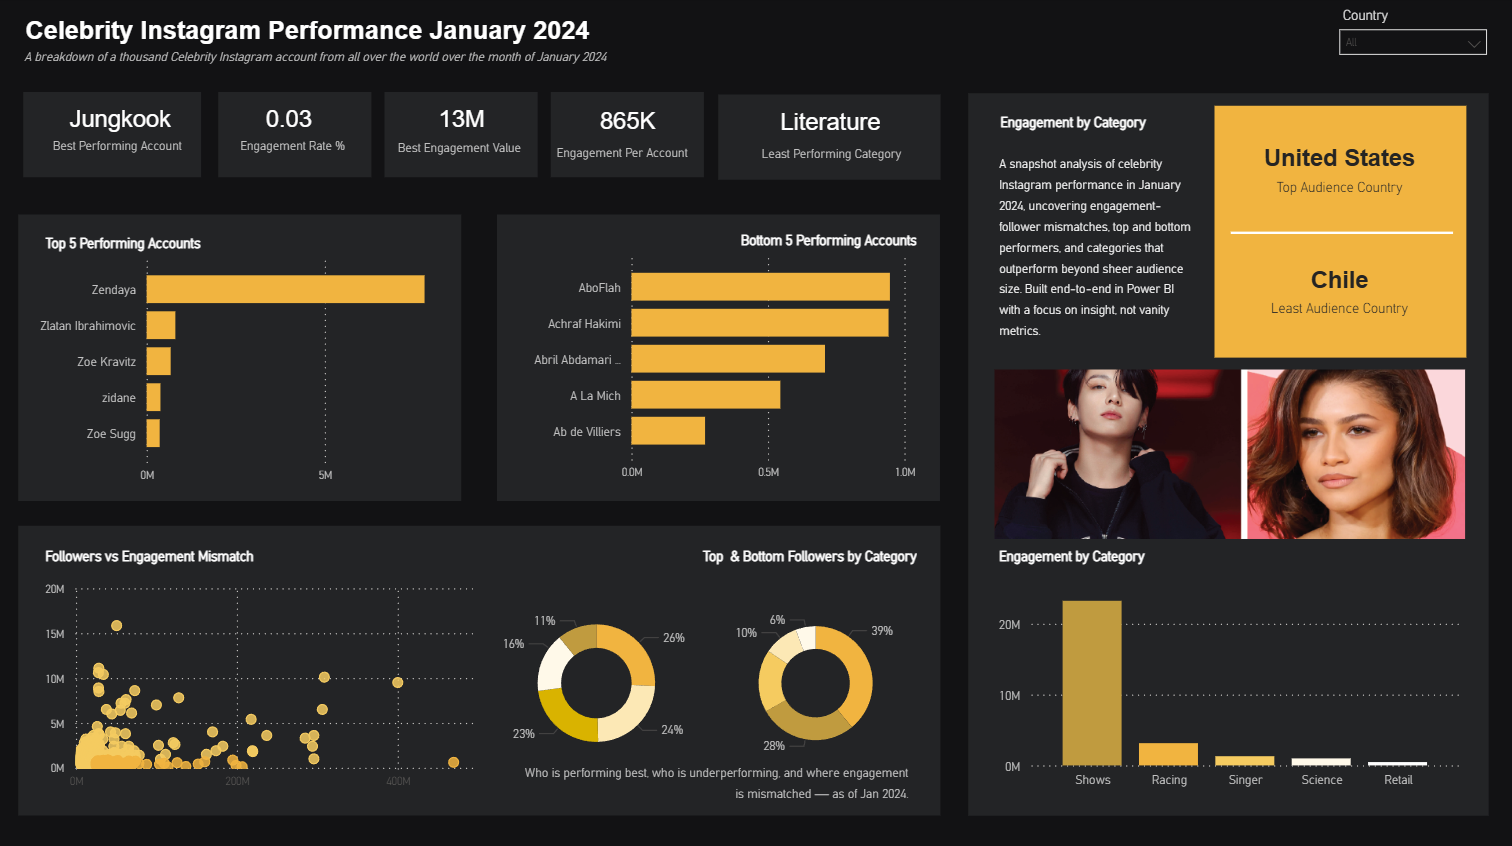

What the dashboard file says about the page in this screenshot:
{"tool":"powerbi","page":{"name":"Celebrity Dashboard Main","canvas":[1280,720],"ordinal":0},"visuals":[{"type":"image","box":[0,0,1280,720.7],"z":0},{"type":"slicer","fields":{"Values":["Instagram-Data.AudienceCountry"]},"box":[1123.9,20.4,145.3,37.2],"z":1000},{"type":"shape","box":[22.3,80.7,150.3,72.3],"z":2000},{"type":"card","fields":{"Values":["Instagram-Data.Best Performing Account"]},"box":[54,80.5,100.9,48],"z":3000},{"type":"textbox","box":[19.5,11.1,513.4,37.6],"z":4000},{"type":"textbox","box":[41.7,115.5,125.2,37.6],"z":5000},{"type":"shape","box":[186.4,80.7,129.4,72.3],"z":6000},{"type":"textbox","box":[200.3,115.5,104.3,29.2],"z":7000},{"type":"card","fields":{"Values":["Instagram-Data.Engagement Rate %"]},"box":[215.7,86.3,62.6,34.8],"z":8000},{"type":"shape","box":[327,80.7,129.4,72.3],"z":9000},{"type":"textbox","box":[1132.3,0,50.4,30],"z":10000},{"type":"textbox","box":[333.9,114.1,115.5,27.8],"z":11000},{"type":"card","fields":{"Values":["Instagram-Data.Best Engagement Value"]},"box":[349.2,80.7,86.3,47.3],"z":12000},{"type":"shape","box":[467.5,80.7,129.4,72.3],"z":13000},{"type":"card","fields":{"Values":["Instagram-Data.Avg Engagement per Account"]},"box":[473,86.3,119.7,39],"z":14000},{"type":"textbox","box":[467.5,118.3,129.4,25],"z":15000},{"type":"shape","box":[609.4,82.1,187.8,72.3],"z":16000},{"type":"card","fields":{"Values":["Instagram-Data.Least Performing Category"]},"box":[634.4,91.8,139.1,29.2],"z":17000},{"type":"textbox","box":[641.4,116.9,132.2,34.8],"z":18000},{"type":"textbox","box":[18.1,34.8,616.3,57],"z":19000},{"type":"shape","box":[18.1,183.7,374.3,242.1],"z":20000},{"type":"shape","box":[423,183.7,374.3,242.1],"z":21000},{"type":"clusteredBarChart","title":"Top 5 Performing Accounts","fields":{"Category":["Instagram-Data.Title"],"Y":["Instagram-Data.Engagement Avg (Measure)"]},"box":[30.6,210.1,347.8,207.3],"z":22000},{"type":"clusteredBarChart","title":"Bottom 5 Performing Accounts","fields":{"Category":["Instagram-Data.Title"],"Y":["Instagram-Data.Engagement Avg (Measure)"]},"box":[437.7,207.6,343.7,207.3],"z":23000},{"type":"textbox","box":[36.2,193.7,254.6,27.8],"z":24000},{"type":"textbox","box":[432.7,190.6,349.2,27.8],"z":25000},{"type":"shape","box":[820.9,81,439.7,610.5],"z":26000},{"type":"shape","box":[18.1,446.6,779.1,244.9],"z":27000},{"type":"scatterChart","title":"Followers vs Engagement Mismatch","fields":{"X":["Sum(Instagram-Data.Followers)"],"Y":["Instagram-Data.Engagement Avg (Measure)"],"Category":["Instagram-Data.Title"],"Series":["Instagram-Data.Underperforming High Followers"]},"box":[36.2,485.6,386.8,190.6],"z":28000},{"type":"textbox","box":[36.2,457.7,254.6,27.8],"z":29000},{"type":"textbox","box":[542.6,457.7,239.3,27.8],"z":30000},{"type":"donutChart","title":"Top 5 Followers by Category","fields":{"Category":["Instagram-Data.Category"],"Y":["Sum(Instagram-Data.Followers)"]},"box":[610.8,500.9,162.8,158.6],"z":31000},{"type":"donutChart","title":"Bottom 5 Followers by Category","fields":{"Category":["Instagram-Data.Category"],"Y":["Sum(Instagram-Data.Followers)"]},"box":[420.2,500.9,172.5,158.6],"z":32000},{"type":"shape","box":[1028.2,91.8,212.9,212.9],"z":33000},{"type":"card","fields":{"Values":["Instagram-Data.Top Audience Country"]},"box":[1039.3,103,190.6,83.5],"z":34000},{"type":"card","fields":{"Values":["Instagram-Data.Least Audience Country"]},"box":[1039.3,204.5,190.6,83.5],"z":35000},{"type":"clusteredColumnChart","title":"Engagement by Category","fields":{"Category":["Instagram-Data.Category"],"Y":["Instagram-Data.Engagement Avg (Measure)"]},"box":[841.7,485.6,399.3,190.6],"z":36000},{"type":"textbox","box":[841.7,457.7,254.6,27.8],"z":37000},{"type":"image","box":[843.1,314.4,397.9,143.3],"z":38000},{"type":"textbox","box":[843.1,90.4,254.6,27.8],"z":39000},{"type":"textbox","box":[841.7,125.2,173.9,186.4],"z":40000},{"type":"shape","box":[1042.1,51.5,187.8,295],"z":41000},{"type":"textbox","box":[438.3,640,336.7,51.5],"z":42000}]}

Visuals, with their boxes in screenshot pixels (x1, y1, x2, y2), scaled from the page's 1280x720 canvas onto the 1512x846 screenshot:
image: bbox(0, 0, 1511, 845)
slicer - Instagram-Data.AudienceCountry: bbox(1328, 24, 1499, 68)
shape: bbox(26, 95, 204, 180)
card - Instagram-Data.Best Performing Account: bbox(64, 95, 183, 151)
textbox: bbox(23, 13, 629, 57)
textbox: bbox(49, 136, 197, 180)
shape: bbox(220, 95, 373, 180)
textbox: bbox(237, 136, 360, 170)
card - Instagram-Data.Engagement Rate %: bbox(255, 101, 329, 142)
shape: bbox(386, 95, 539, 180)
textbox: bbox(1338, 0, 1397, 35)
textbox: bbox(394, 134, 531, 167)
card - Instagram-Data.Best Engagement Value: bbox(412, 95, 514, 150)
shape: bbox(552, 95, 705, 180)
card - Instagram-Data.Avg Engagement per Account: bbox(559, 101, 700, 147)
textbox: bbox(552, 139, 705, 168)
shape: bbox(720, 96, 942, 181)
card - Instagram-Data.Least Performing Category: bbox(749, 108, 914, 142)
textbox: bbox(758, 137, 914, 178)
textbox: bbox(21, 41, 749, 108)
shape: bbox(21, 216, 464, 500)
shape: bbox(500, 216, 942, 500)
"Top 5 Performing Accounts" clusteredBarChart: bbox(36, 247, 447, 490)
"Bottom 5 Performing Accounts" clusteredBarChart: bbox(517, 244, 923, 488)
textbox: bbox(43, 228, 344, 260)
textbox: bbox(511, 224, 924, 257)
shape: bbox(970, 95, 1489, 813)
shape: bbox(21, 525, 942, 813)
"Followers vs Engagement Mismatch" scatterChart: bbox(43, 571, 500, 795)
textbox: bbox(43, 538, 344, 570)
textbox: bbox(641, 538, 924, 570)
"Top 5 Followers by Category" donutChart: bbox(722, 589, 914, 775)
"Bottom 5 Followers by Category" donutChart: bbox(496, 589, 700, 775)
shape: bbox(1215, 108, 1466, 358)
card - Instagram-Data.Top Audience Country: bbox(1228, 121, 1453, 219)
card - Instagram-Data.Least Audience Country: bbox(1228, 240, 1453, 338)
"Engagement by Category" clusteredColumnChart: bbox(994, 571, 1466, 795)
textbox: bbox(994, 538, 1295, 570)
image: bbox(996, 369, 1466, 538)
textbox: bbox(996, 106, 1297, 139)
textbox: bbox(994, 147, 1200, 366)
shape: bbox(1231, 61, 1453, 407)
textbox: bbox(518, 752, 915, 813)
